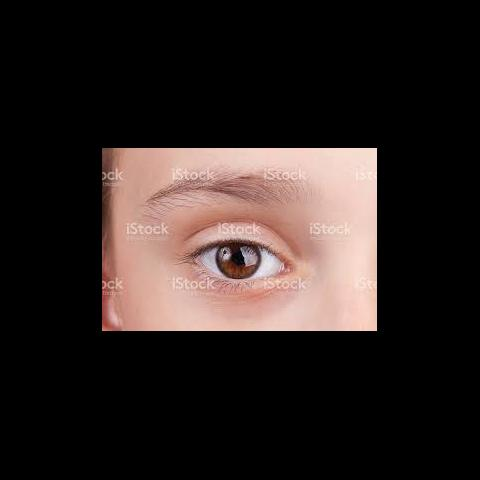opened: (173, 202, 309, 300)
